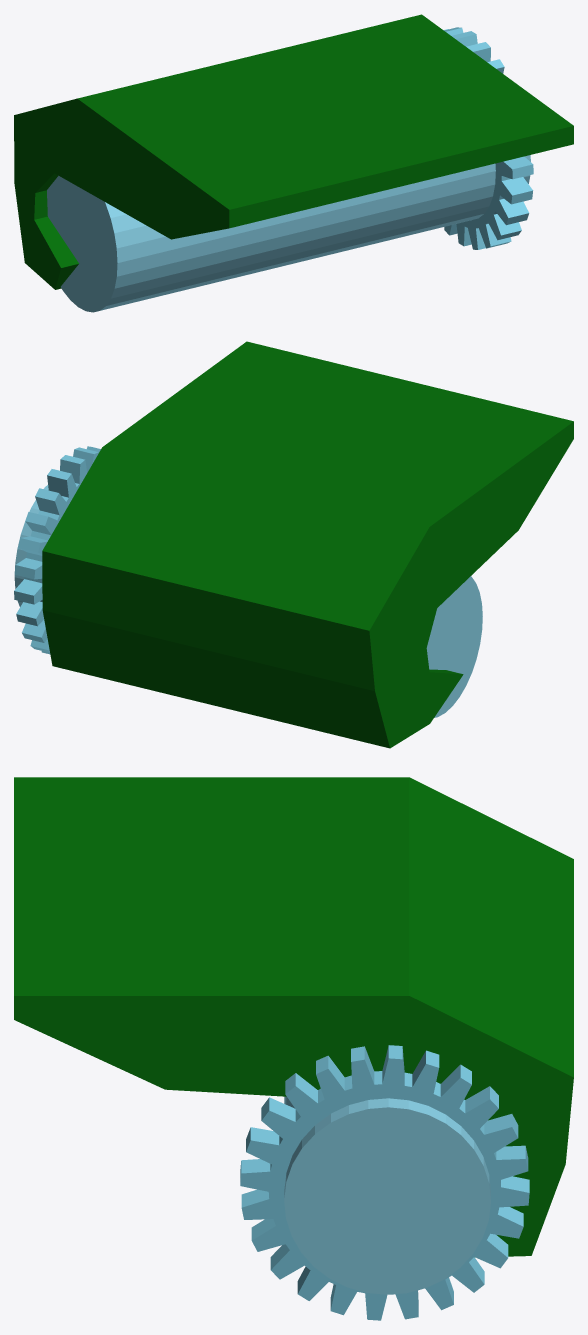
The model's file is OriginalRollerBelt.fbx.
3 renders of one model, top to bottom at view 1: azimuth 30°, elevation 25°; view 2: azimuth 150°, elevation 25°; view 3: azimuth 270°, elevation 25°, orthographic. The views are drawn at different scales.
Parts seen in each view (by area): view 1: Belt.001, Gear.001; view 2: Belt.001, Gear.001; view 3: Belt.001, Gear.001.
Boxes of the visible parts, <box> form: Belt.001: <box>14,14,573,289</box>; Gear.001: <box>47,27,533,312</box>; Belt.001: <box>42,341,573,748</box>; Gear.001: <box>14,446,482,717</box>; Belt.001: <box>14,777,573,1256</box>; Gear.001: <box>240,1045,529,1320</box>.
Size of the model in its own units: 251 by 126 by 217.
